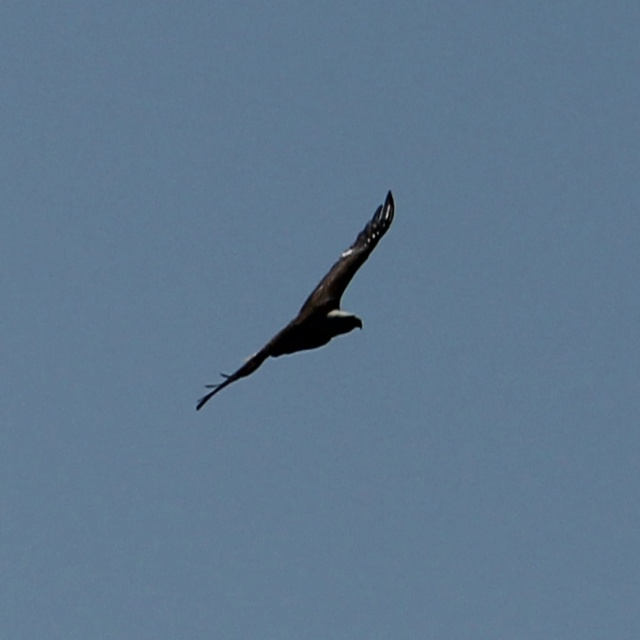Eagle: (195, 184, 399, 413)
